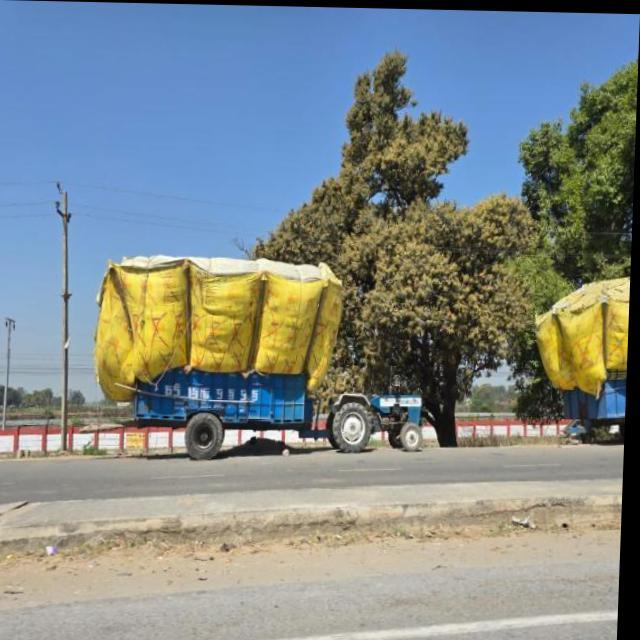uncovered: (110, 258, 347, 468), (553, 258, 633, 432)
